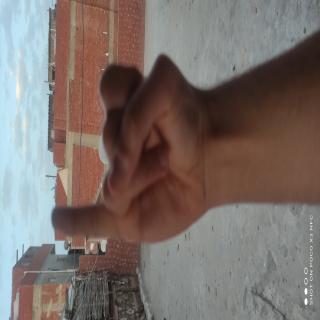MEEM: (29, 103, 123, 320)
